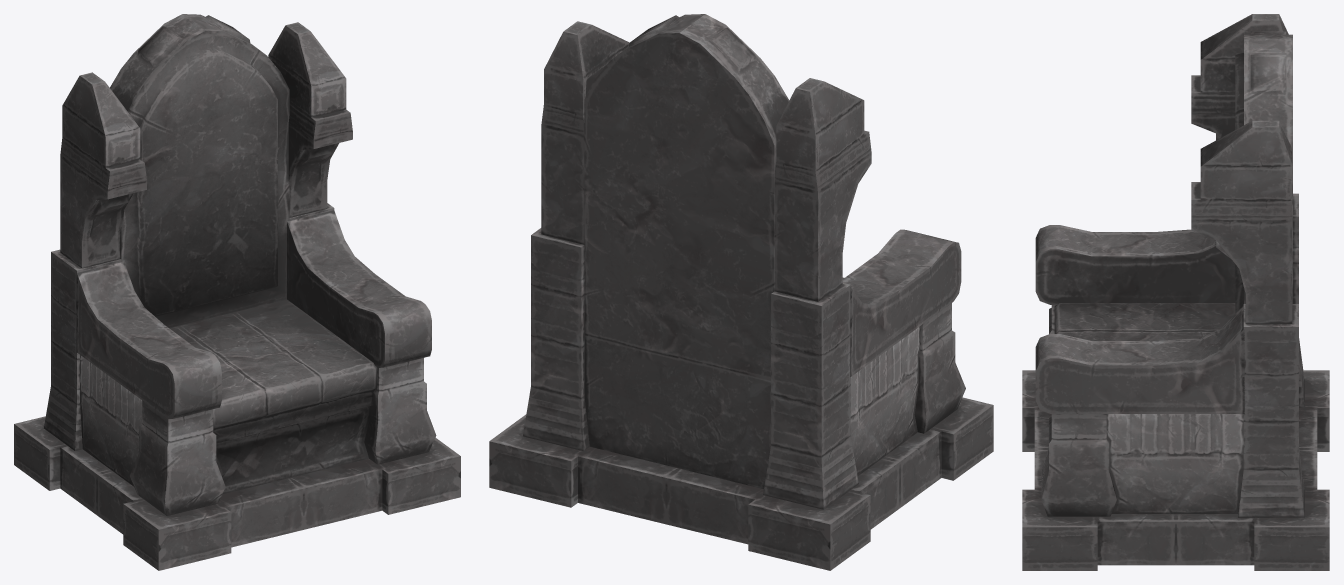
3 views of the same model, side by side, from view 1: azimuth 30°, elevation 25°; view 2: azimuth 150°, elevation 25°; view 3: azimuth 270°, elevation 25° (orthographic). The views are drawn at different scales.
Visible parts, largest first — view 1: Thone; view 2: Thone; view 3: Thone.
Boxes of the visible parts, <box> form: Thone: <box>14,14,460,570</box>; Thone: <box>489,14,993,570</box>; Thone: <box>1022,14,1329,570</box>.
Size of the model in its own units: 3.23 by 4.36 by 2.67.
Materials: 1 (1 with a texture image).
